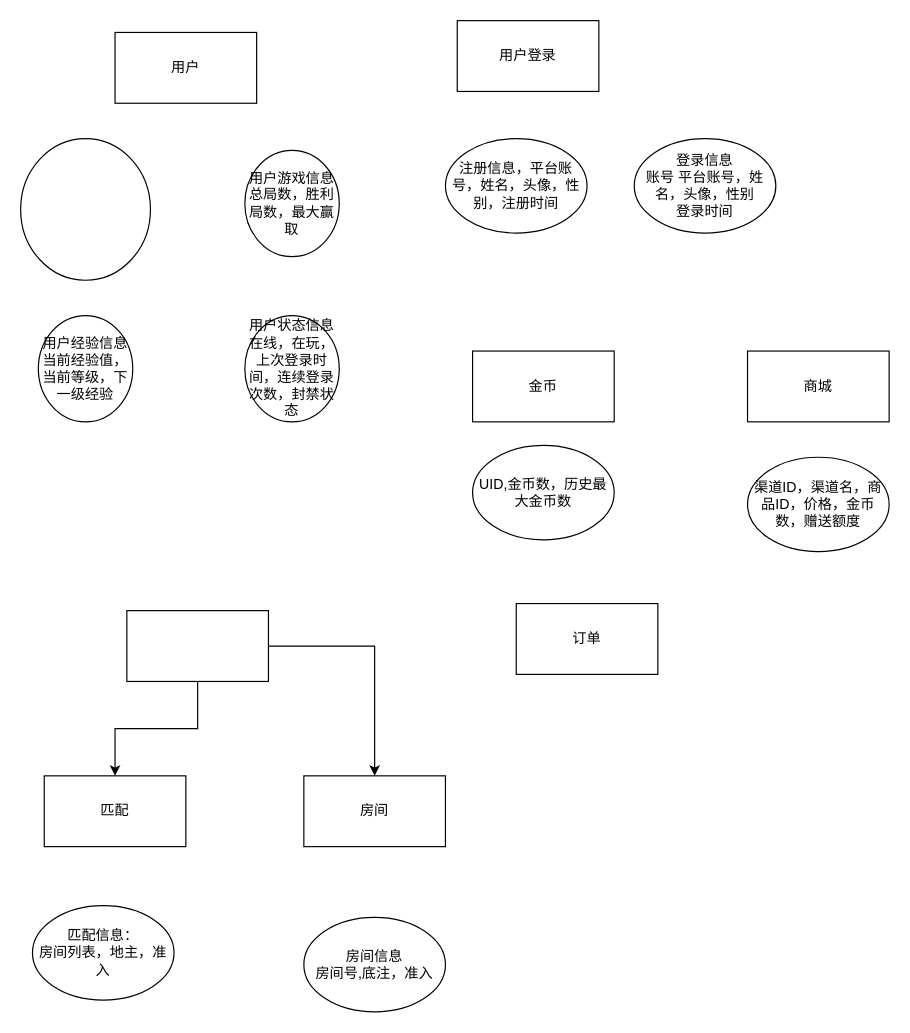
The diagram is 910 pixels wide and 1033 high, and some of its shapes have lost their labels. The box of each missing label's shape, as (x1, y1, x2, y2) in pixels:
游戏: (126, 609, 268, 681)
用户基本信息 账号，平台账号，姓名，头像，性别: (19, 137, 150, 280)
